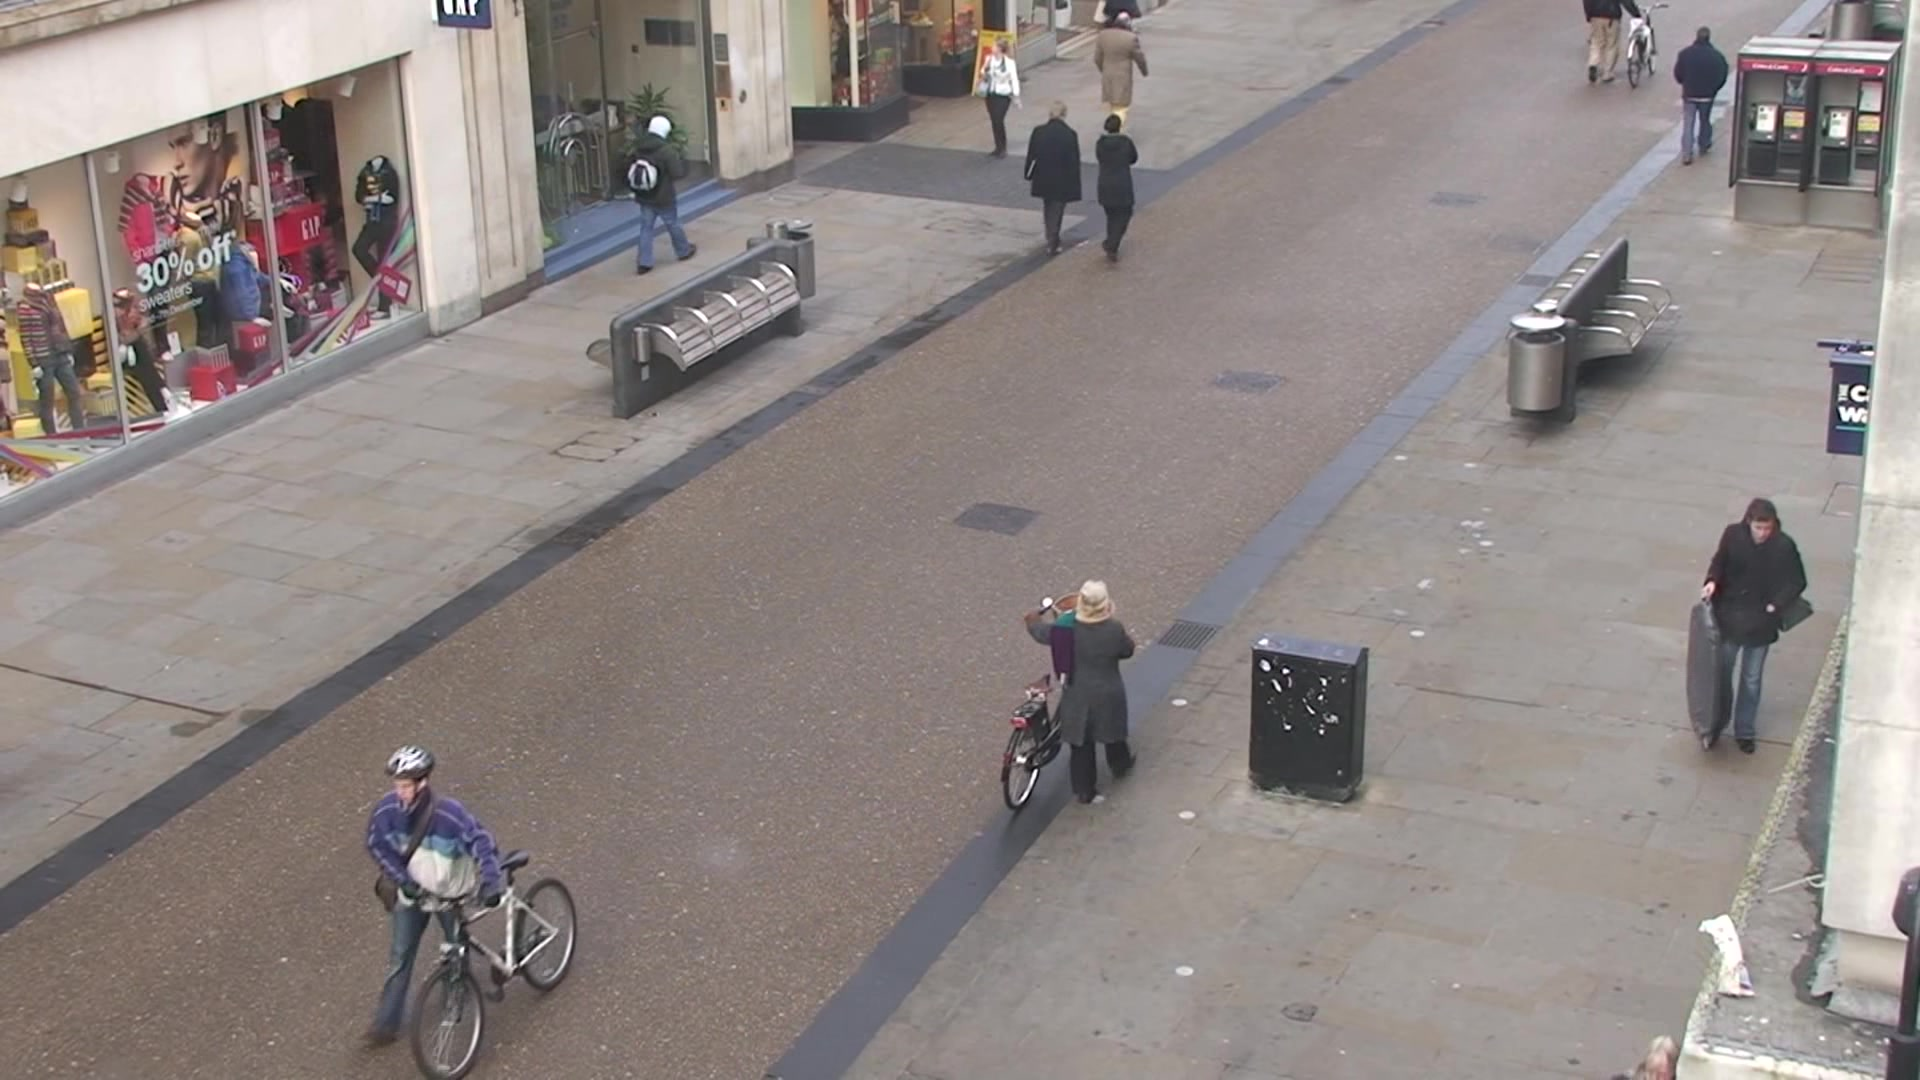person: (363, 744, 505, 1048), (1700, 499, 1809, 756), (1023, 580, 1139, 806), (623, 112, 702, 275), (1020, 99, 1082, 258), (1670, 25, 1730, 169), (968, 34, 1024, 162), (1093, 10, 1150, 131), (1096, 113, 1139, 266)
